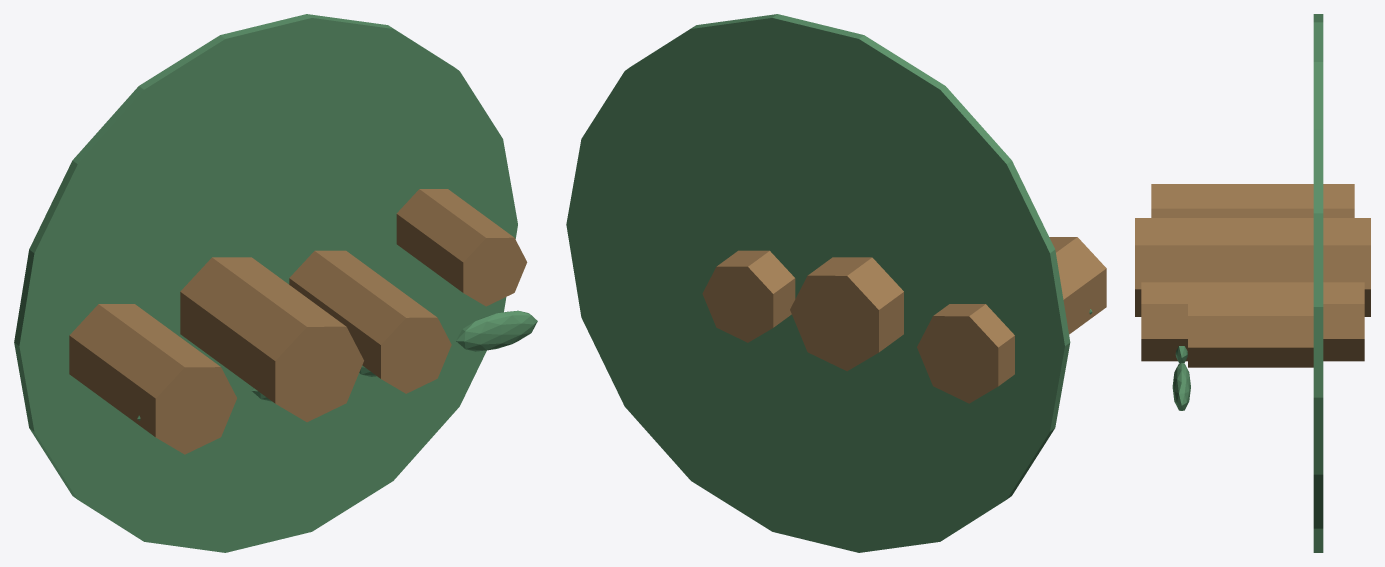
The model's file is 03_ambient_object_cluster.glb.
3 renders of one model, left to right at view 1: azimuth 30°, elevation 25°; view 2: azimuth 150°, elevation 25°; view 3: azimuth 270°, elevation 25°, orthographic. The views are drawn at different scales.
Visible parts, largest first — view 1: scatter_base, root_stump_1, root_stump_0, root_stump_2, root_stump_3, moss_3; view 2: scatter_base, root_stump_0, root_stump_1, root_stump_2; view 3: root_stump_1, root_stump_3, root_stump_2, root_stump_0, scatter_base, moss_3.
Part boxes in pixels (box(x1,y1,x2,y2)): scatter_base: box(14, 14, 517, 552); root_stump_1: box(180, 257, 363, 422); root_stump_0: box(69, 304, 236, 454); root_stump_2: box(289, 250, 451, 393); root_stump_3: box(396, 189, 527, 306); moss_3: box(456, 310, 537, 351); scatter_base: box(566, 14, 1070, 552); root_stump_0: box(917, 237, 1106, 403); root_stump_1: box(790, 257, 903, 371); root_stump_2: box(702, 250, 795, 342); root_stump_1: box(1135, 218, 1370, 316); root_stump_3: box(1188, 296, 1313, 367); root_stump_2: box(1141, 282, 1364, 361); root_stump_0: box(1151, 184, 1354, 217); scatter_base: box(1313, 14, 1323, 552); moss_3: box(1172, 363, 1190, 410).
Bounding box in the file's own units: 1.9 × 1.87 × 0.8282.
